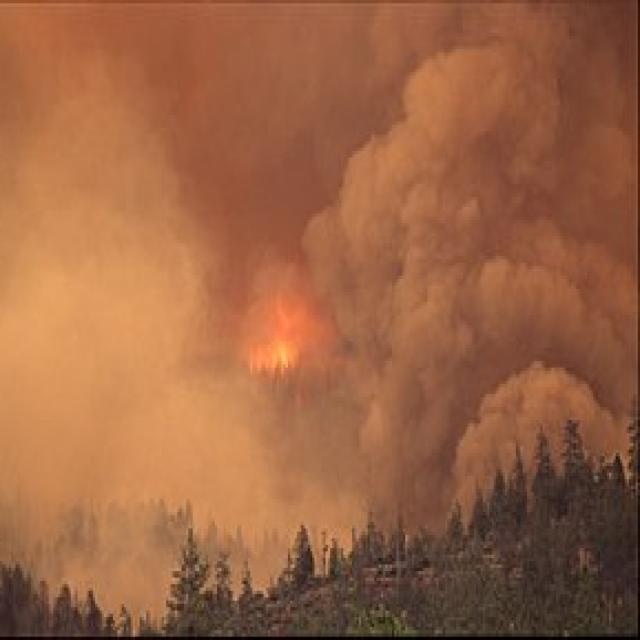fire: (243, 296, 301, 366)
smoke: (329, 34, 606, 490), (10, 72, 229, 538)
